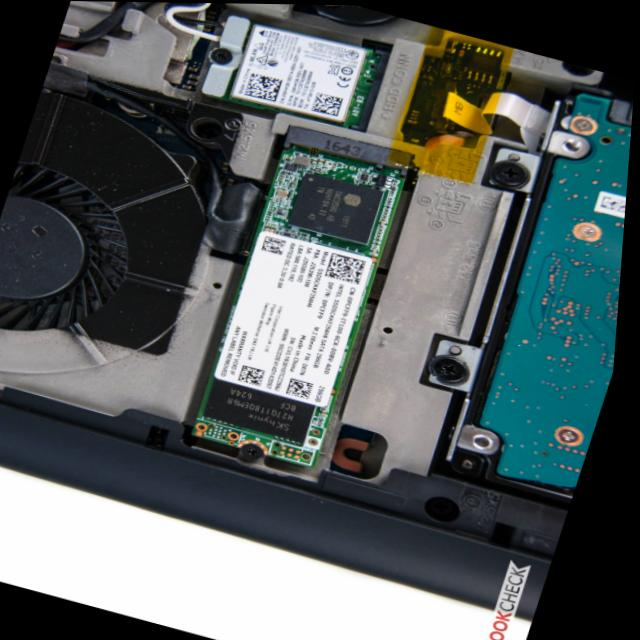datamatrix: (329, 251, 372, 283), (245, 70, 285, 102), (313, 90, 346, 117), (244, 364, 272, 385), (292, 377, 320, 398), (265, 234, 291, 255)
